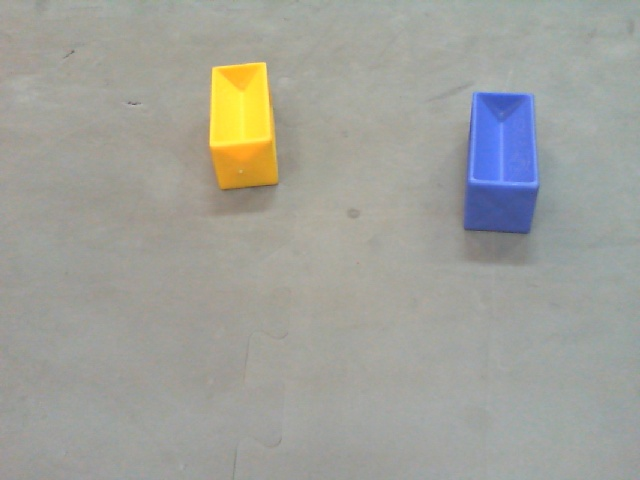BlueSample: (464, 88, 541, 241)
YellowSample: (208, 61, 280, 190)
